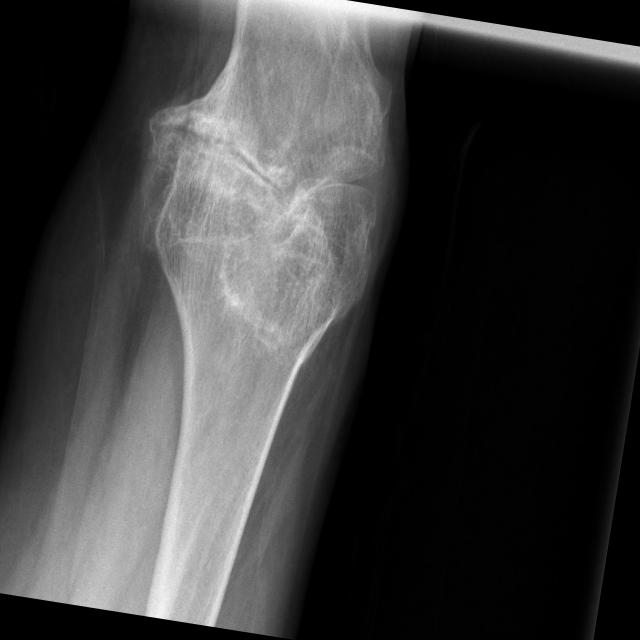Knee: (124, 66, 400, 306)
